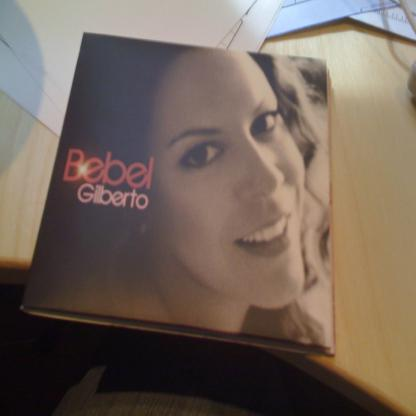book: (22, 31, 337, 359)
